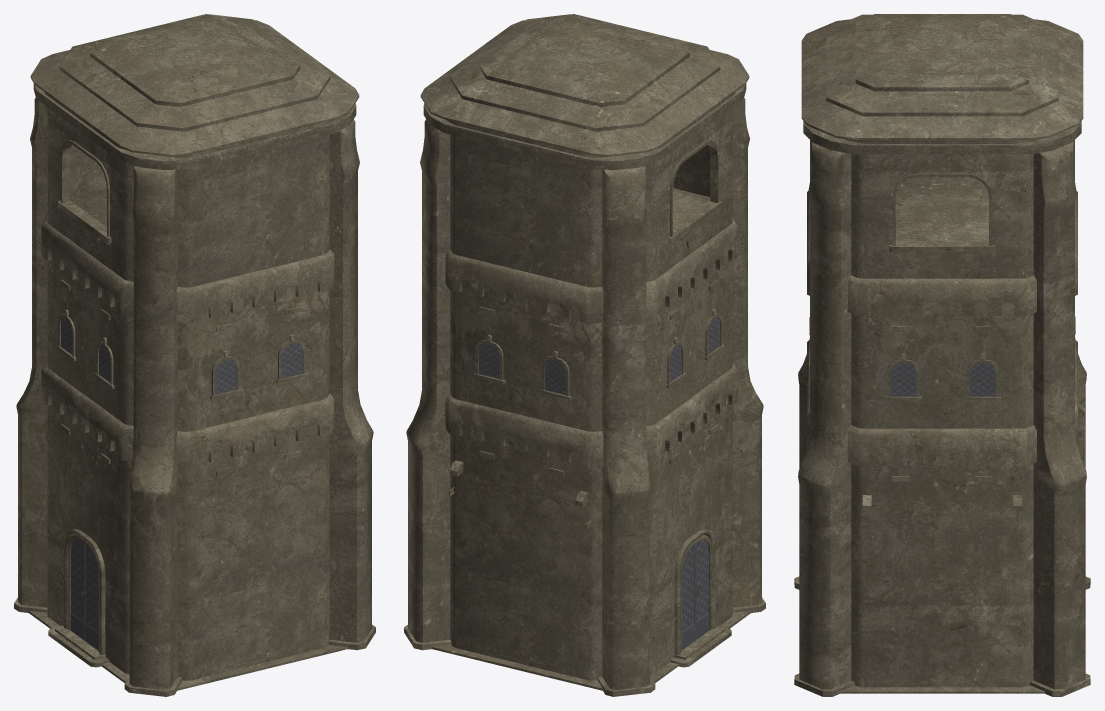
Rendered from rampart_tower_tall.gltf.
3 renders of one model, left to right at view 1: azimuth 30°, elevation 25°; view 2: azimuth 150°, elevation 25°; view 3: azimuth 270°, elevation 25°, orthographic. The views are drawn at different scales.
Visible parts, largest first — view 1: rampart_tower_tall; view 2: rampart_tower_tall; view 3: rampart_tower_tall.
Boxes of the visible parts, box(x1,y1,x2,y2) form: rampart_tower_tall: box(14, 14, 375, 696); rampart_tower_tall: box(404, 14, 765, 696); rampart_tower_tall: box(794, 14, 1090, 696).
Size of the model in its own units: 23.46 by 50.9 by 23.12.
2 materials, 2 textured.
